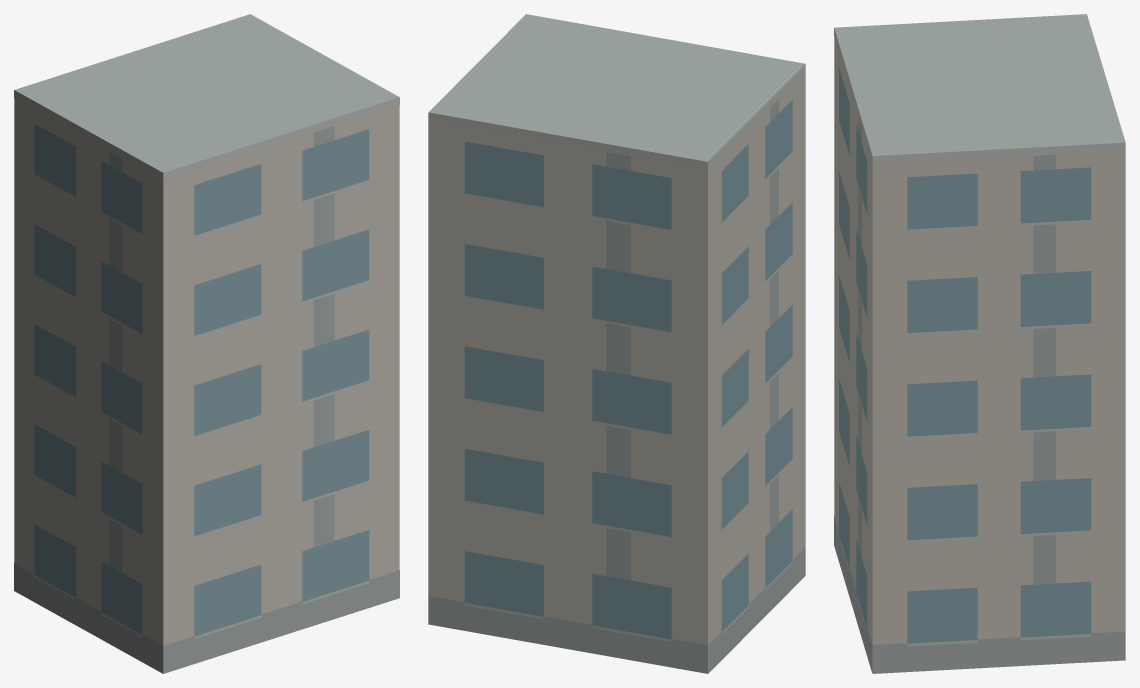
The model's file is residential-82dba675-0e60-4087-be3b-cc2efa569cb5.glb.
3 views of the same model, side by side, from view 1: azimuth 30°, elevation 25°; view 2: azimuth 150°, elevation 25°; view 3: azimuth 270°, elevation 25° (orthographic). The views are drawn at different scales.
Visible parts, largest first — view 1: residential-82dba675-0e60-4087-be3b-cc2efa569cb5.tmp; view 2: residential-82dba675-0e60-4087-be3b-cc2efa569cb5.tmp; view 3: residential-82dba675-0e60-4087-be3b-cc2efa569cb5.tmp.
Part boxes in pixels (x1,y1,x2,y2): residential-82dba675-0e60-4087-be3b-cc2efa569cb5.tmp: [14, 14, 399, 673]; residential-82dba675-0e60-4087-be3b-cc2efa569cb5.tmp: [428, 14, 805, 673]; residential-82dba675-0e60-4087-be3b-cc2efa569cb5.tmp: [834, 14, 1125, 673].
Bounding box in the file's own units: 8.99 × 15.25 × 7.79.
